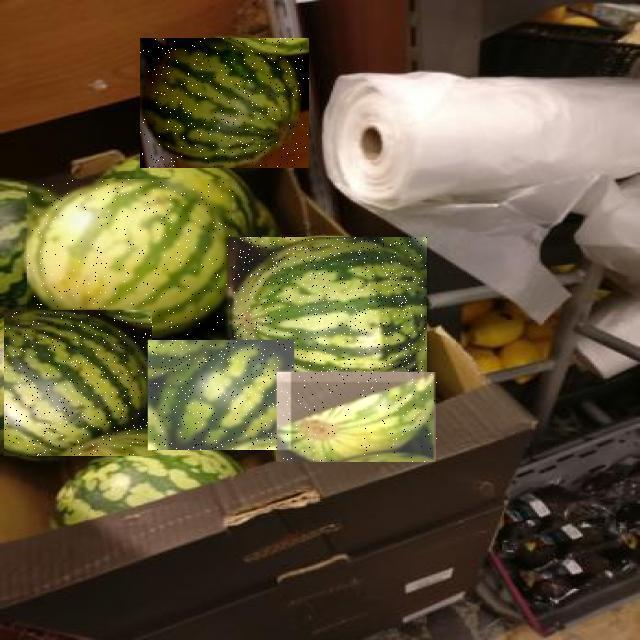Watermelon: (28, 179, 234, 338), (230, 237, 427, 382), (140, 38, 309, 168), (4, 310, 152, 456), (149, 340, 295, 450), (278, 372, 438, 462)
